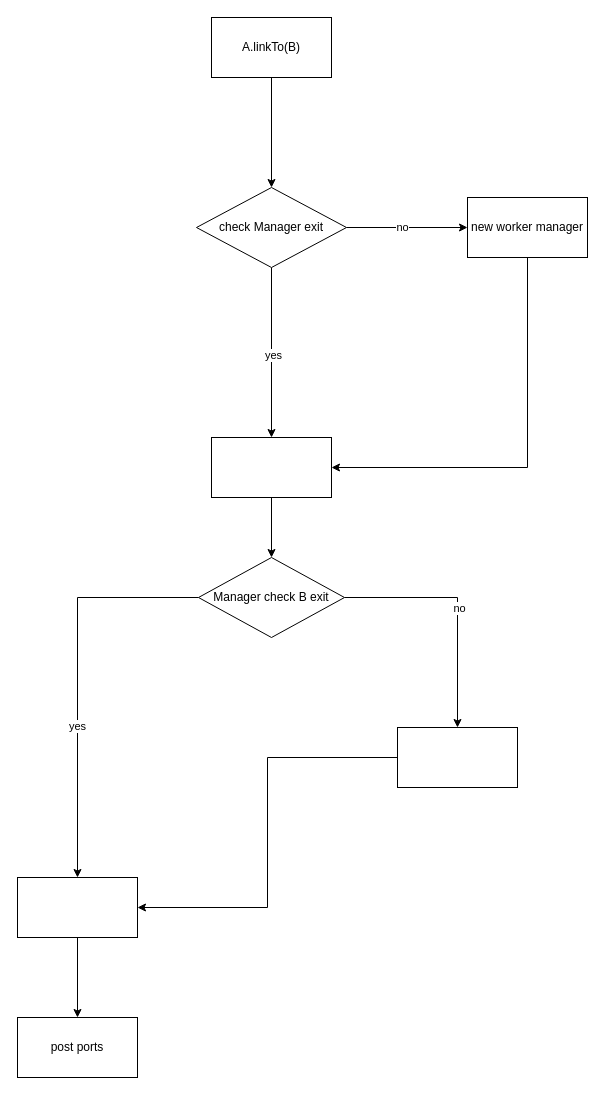
This 605x1095 diagram has some shape labels left out. Each missing label, with the centre of its shape:
"A post to Manager" goes at pixel 271 467.
"create channel" goes at pixel 77 907.
"new worker" goes at pixel 457 757.
